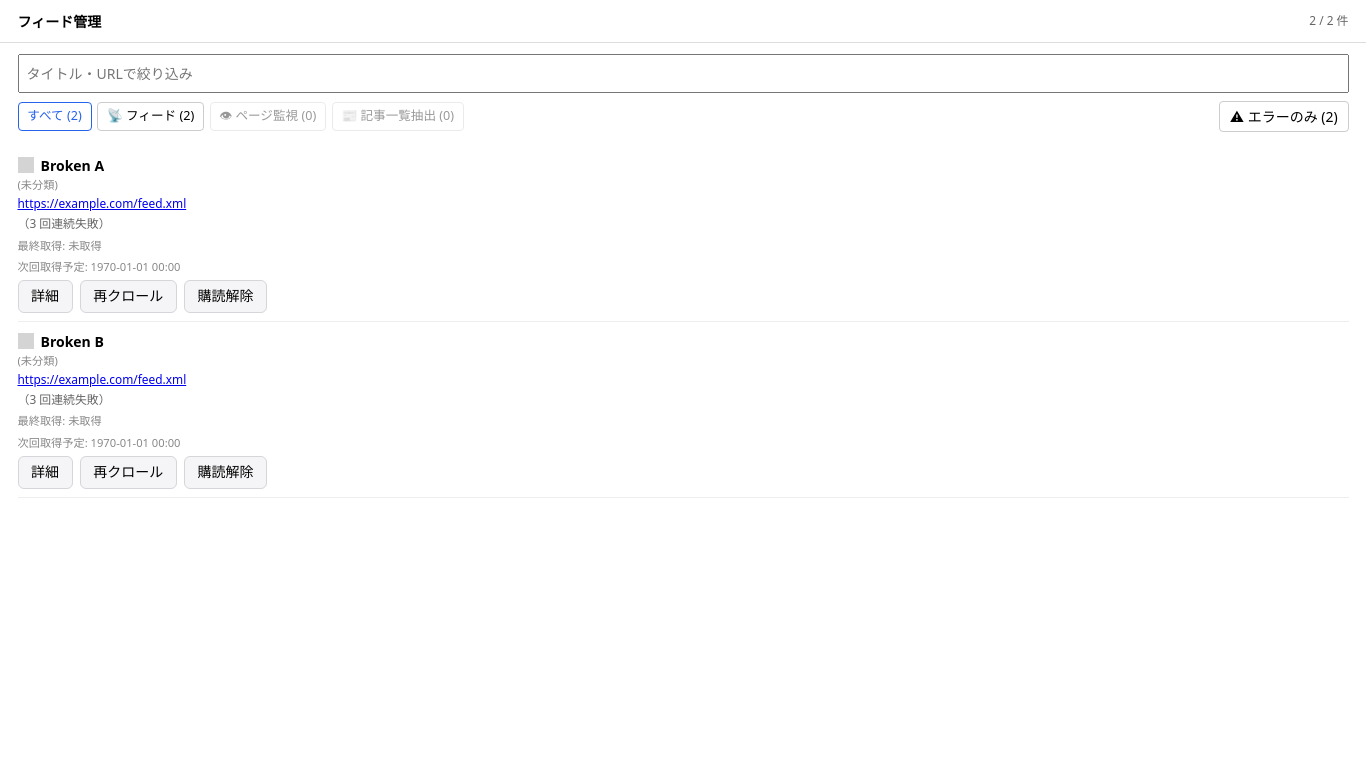
Test: FeedManagerPane selection across filter changes › keeps only the still-visible ids counted as selected after narrowing the filter
The image size is (1366, 768).
Click the button "⚠ エラーのみ (2)" at [1284, 117], box x1=1219 y1=101 x2=1348 y2=132
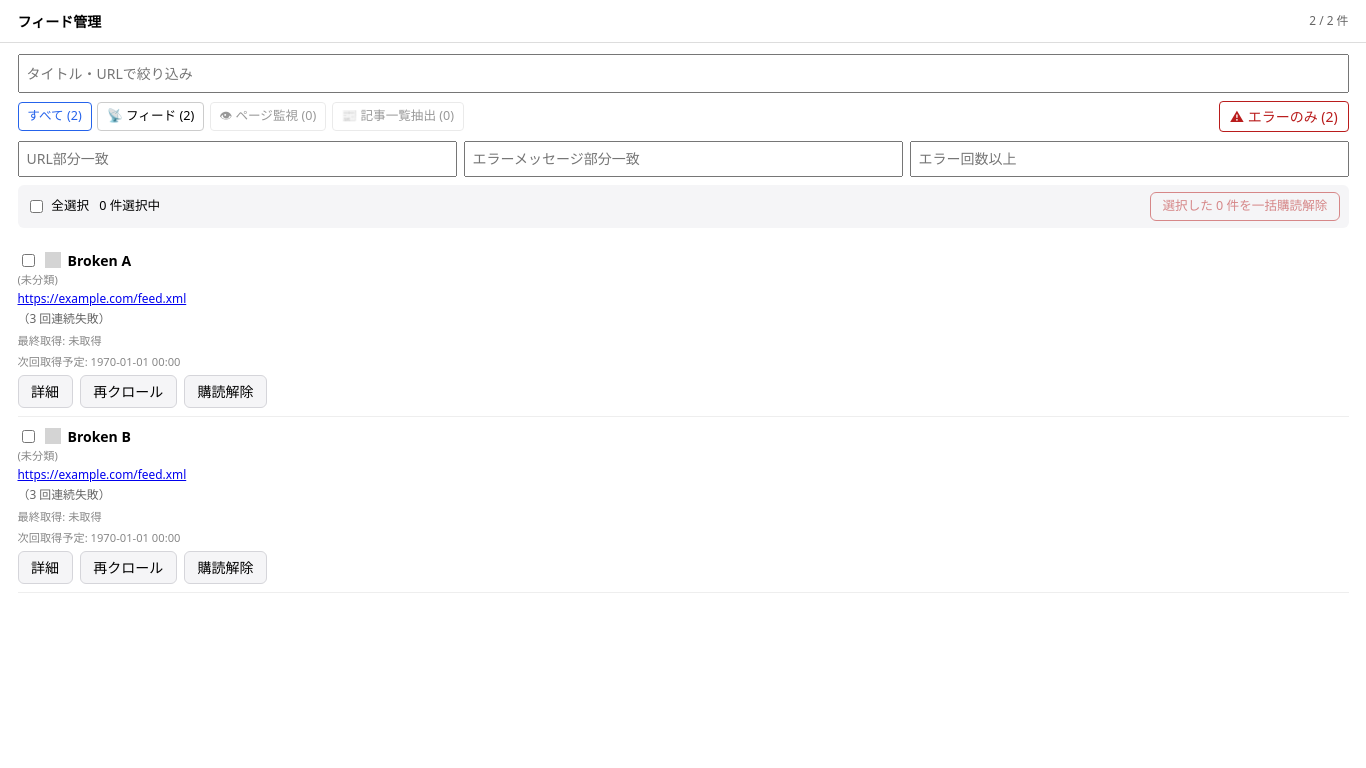
// Select all (both rows) via the header checkbox.
Click the checkbox labelled "全選択" at [37, 206], box x1=30 y1=200 x2=43 y2=213
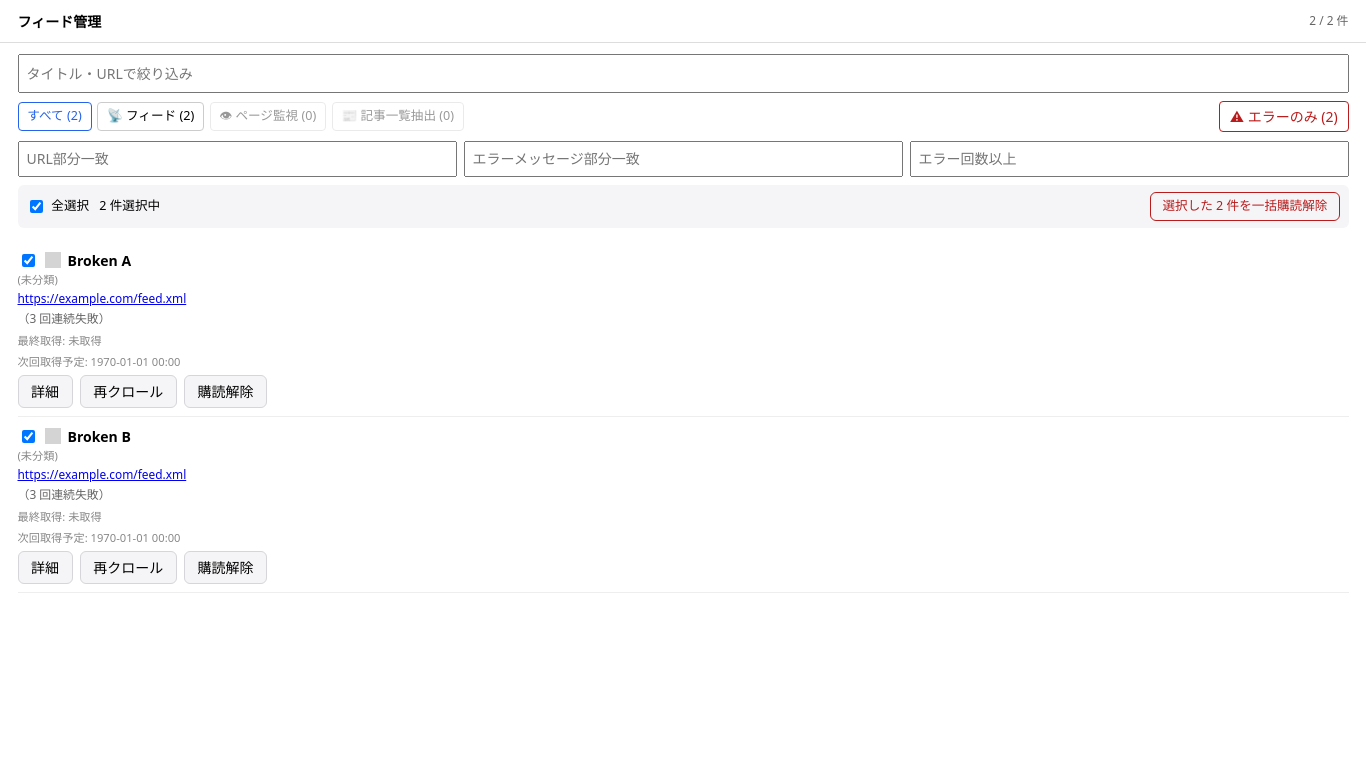
Check: the text "2 件選択中" is shown, box x1=99 y1=197 x2=160 y2=216
Type "Broken A" into the field with placeholder "タイトル・URLで絞り込み" at [683, 73], box x1=18 y1=54 x2=1348 y2=92
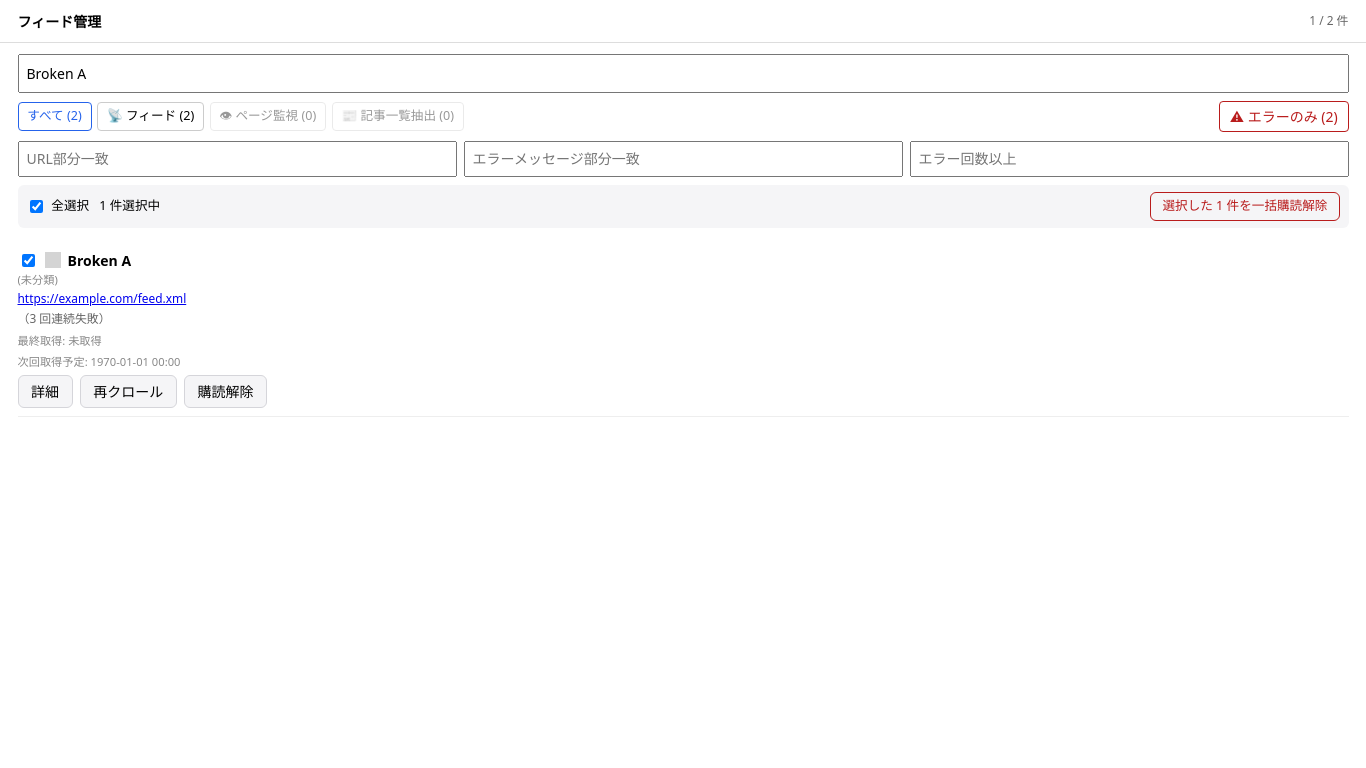
Check: the checkbox labelled "全選択" is checked, box x1=30 y1=200 x2=43 y2=213
Check: the text "1 件選択中" is shown, box x1=99 y1=197 x2=160 y2=216
